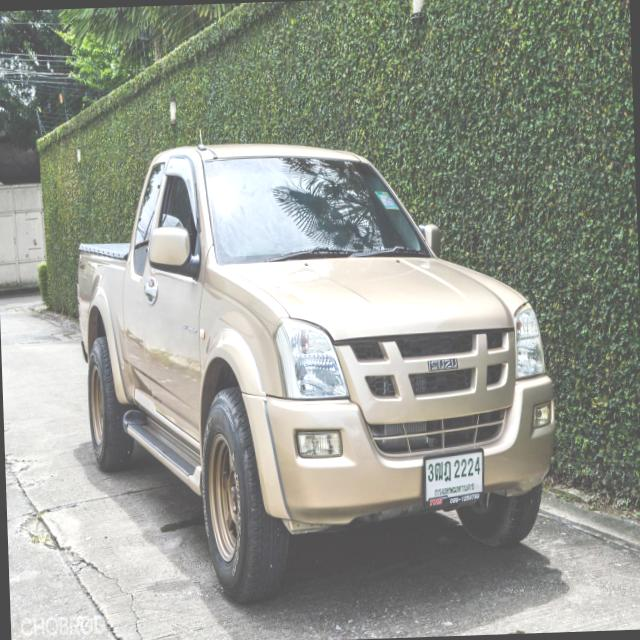license_plate: (419, 445, 488, 513)
